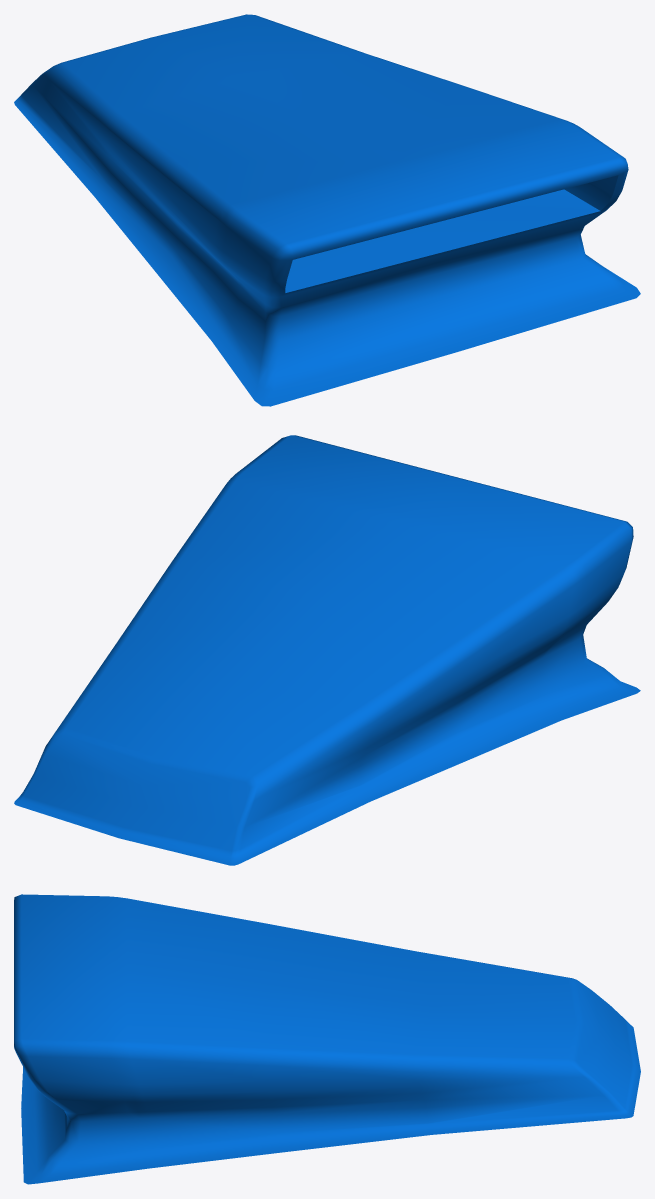
The model's file is R34_RoofScoop_04_Duco.fbx.
3 views of the same model, one above another, from view 1: azimuth 30°, elevation 25°; view 2: azimuth 150°, elevation 25°; view 3: azimuth 270°, elevation 25° (orthographic). The views are drawn at different scales.
Visible parts, largest first — view 1: R34_RoofScoop_04_Duco; view 2: R34_RoofScoop_04_Duco; view 3: R34_RoofScoop_04_Duco.
Part boxes in pixels (bbox=[...]): R34_RoofScoop_04_Duco: bbox=[14, 14, 640, 406]; R34_RoofScoop_04_Duco: bbox=[14, 435, 640, 865]; R34_RoofScoop_04_Duco: bbox=[14, 894, 640, 1184].
Size of the model in its own units: 20.74 by 8.61 by 32.
